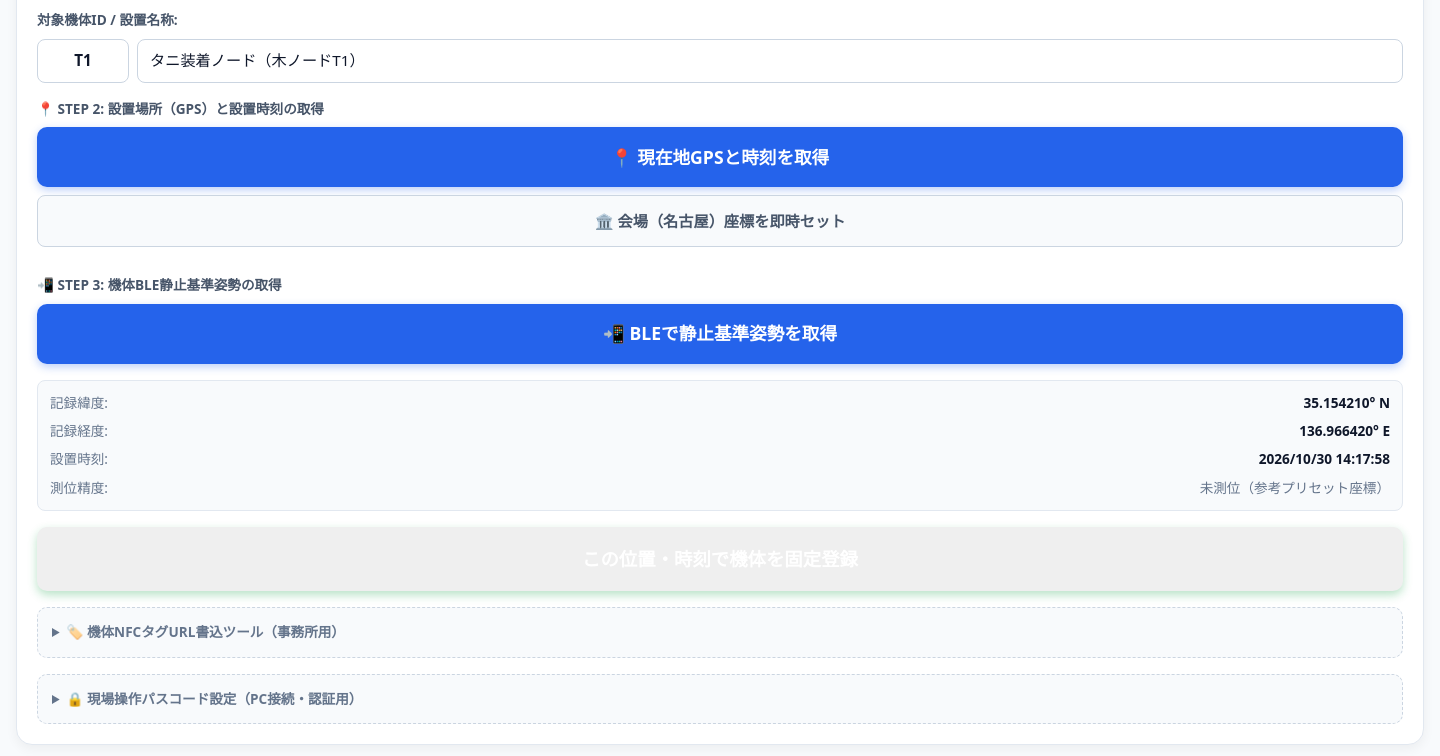
Test case: MobileHome › パスコード設定時は X-Sanmou-Operator-Token ヘッダーを付けて送信する (Issue #50)
(page scrolled)
Click the button "この位置・時刻で機体を固定登録": (720, 559) [37,527,1403,591]
(page scrolled)
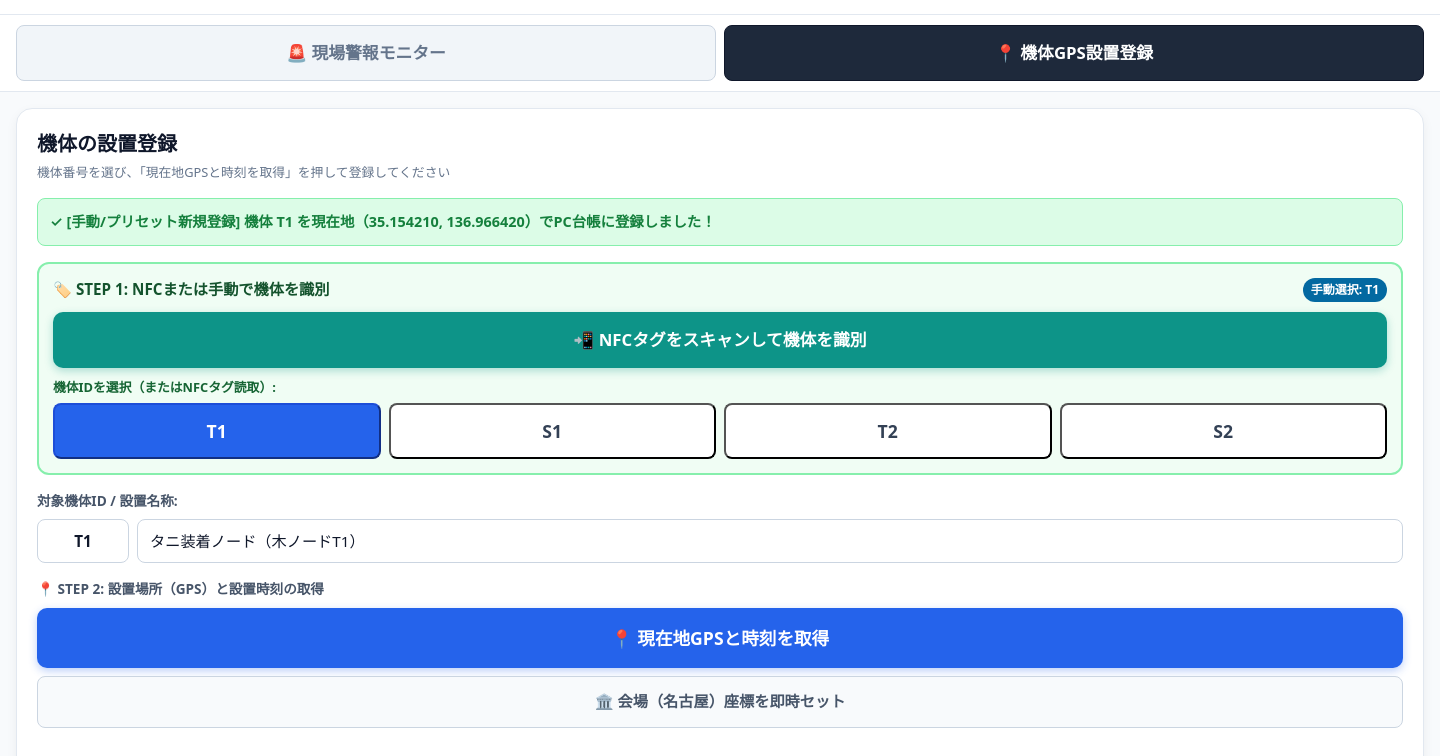
Now the text "PC台帳に登録しました" is shown, box [50,212,716,231]
